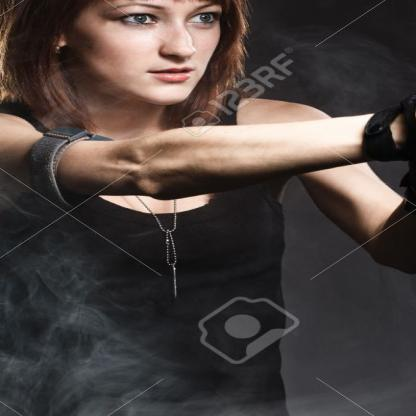gun: (356, 22, 415, 146)
